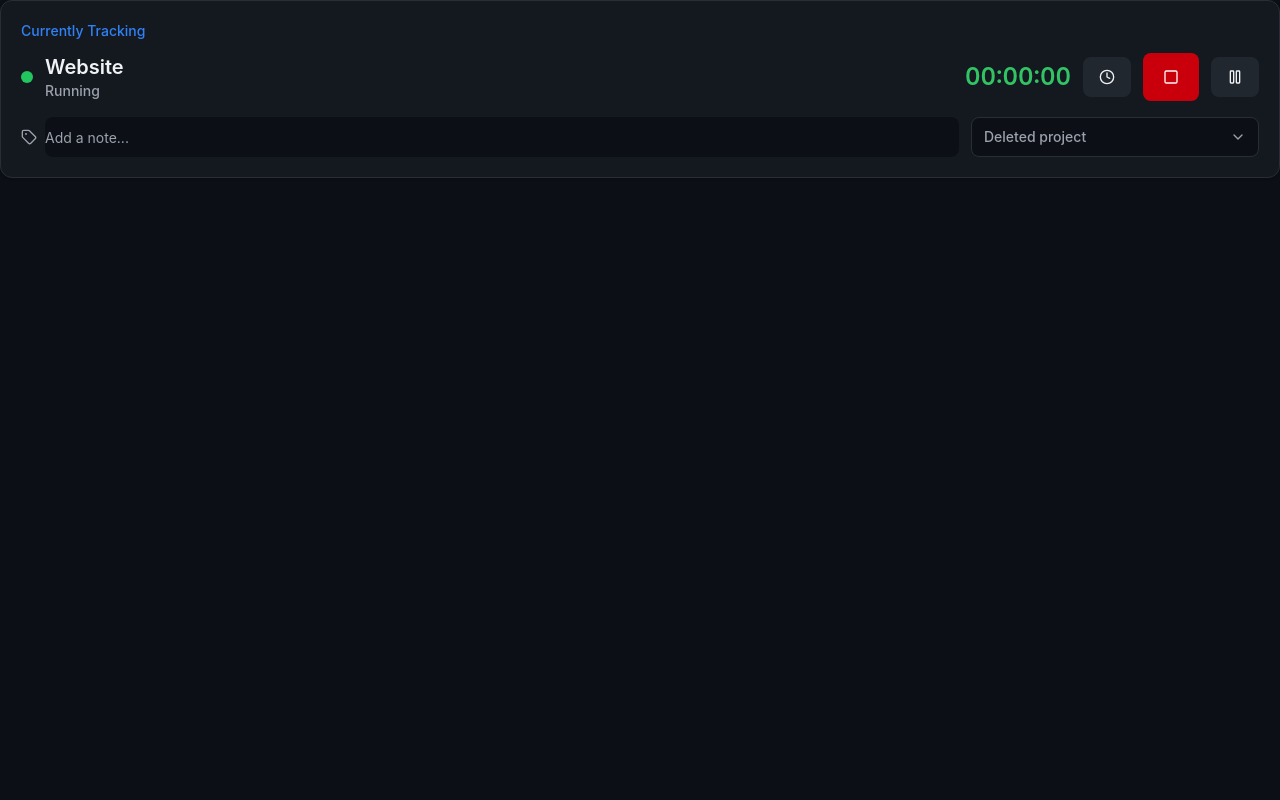
Test: CurrentlyTrackingCard – note behaviour › closes the suggestions when clicking outside the note field
Type "dai" into the dropdown labelled "Add a note" at (502, 137), box [45, 117, 959, 157]
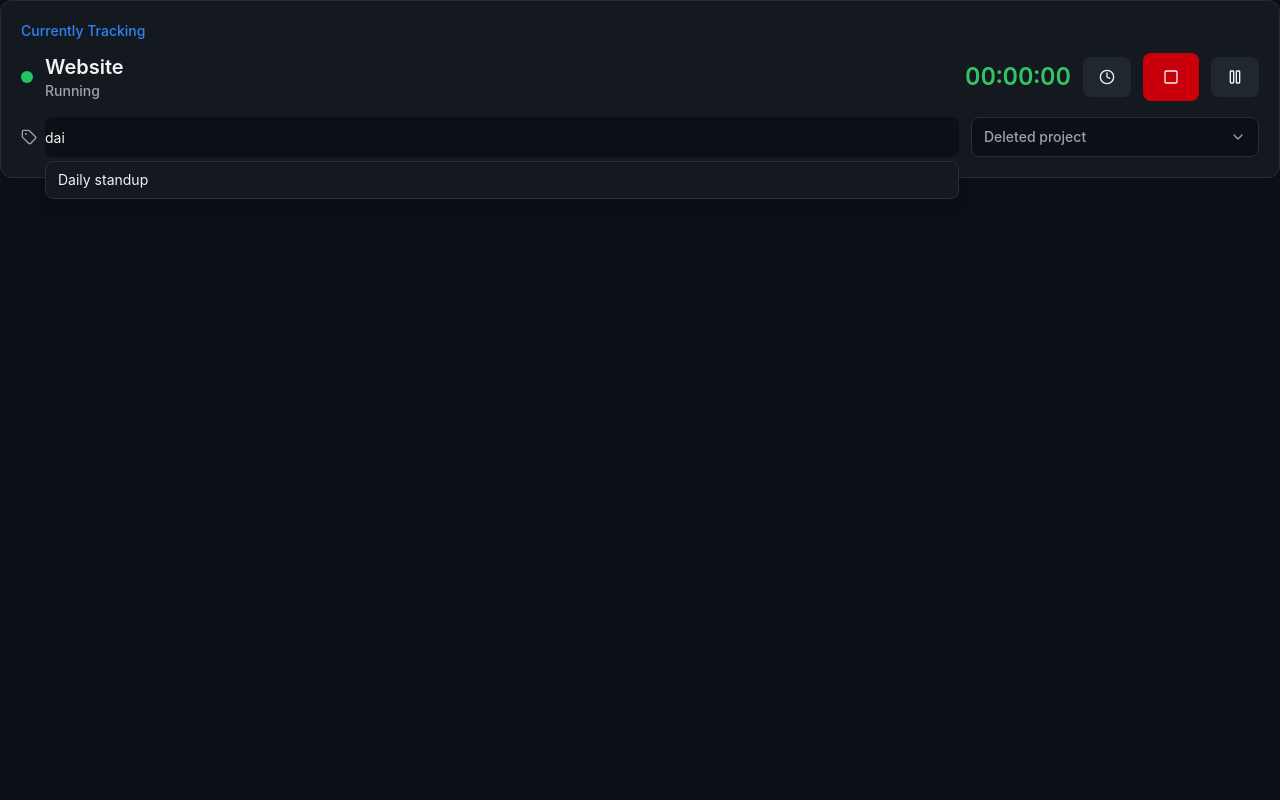
Expected: the list is shown, [45, 161, 959, 199]
Press the mouse on the dropdown named "Add a note" at (502, 137), box [45, 117, 959, 157]
Expected: the list is shown, [45, 161, 959, 199]
Press the mouse on the option "Daily standup" at (103, 180), box [58, 171, 148, 188]
Expected: the list is shown, [45, 161, 959, 199]
Press the mouse on the element that starts with "Currently Tracking" at (640, 400), box [0, 0, 1279, 799]
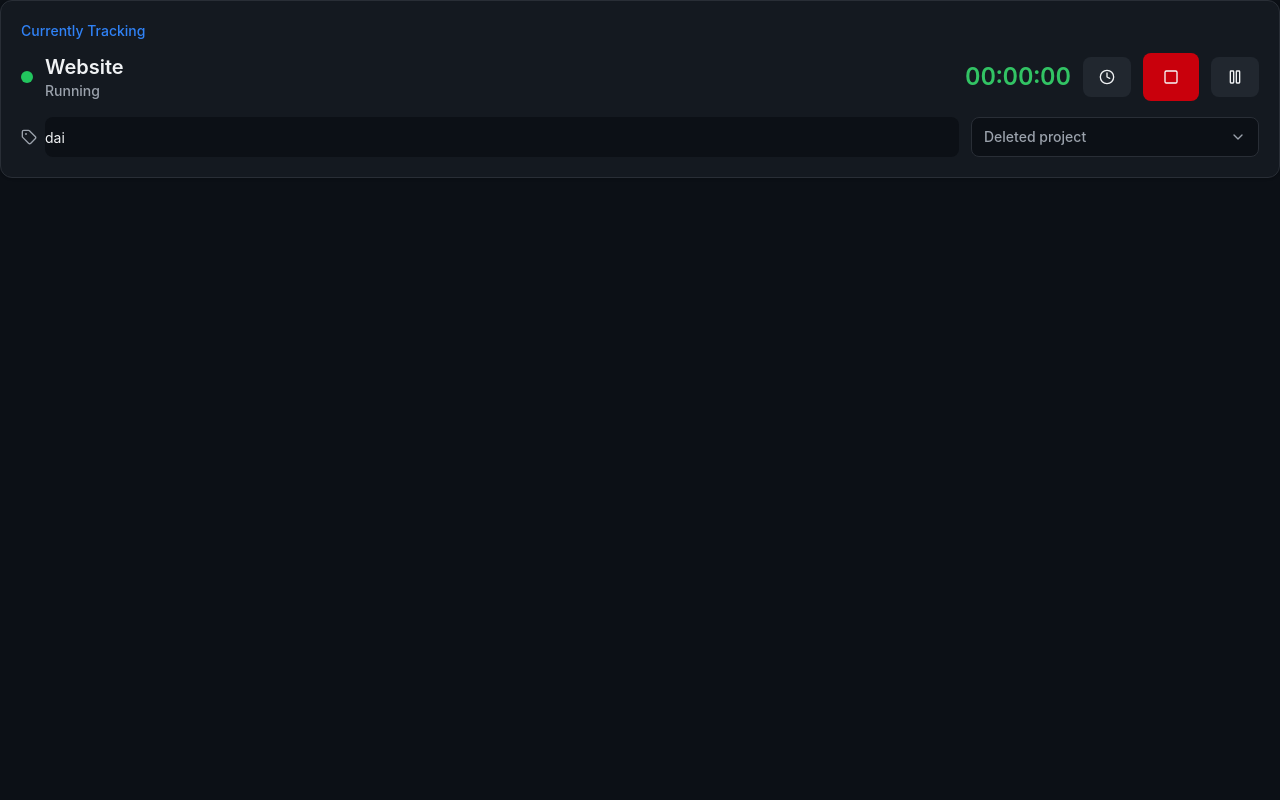
Expected: the list is gone
